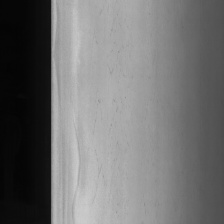silk_spot: (89, 5, 132, 208)
